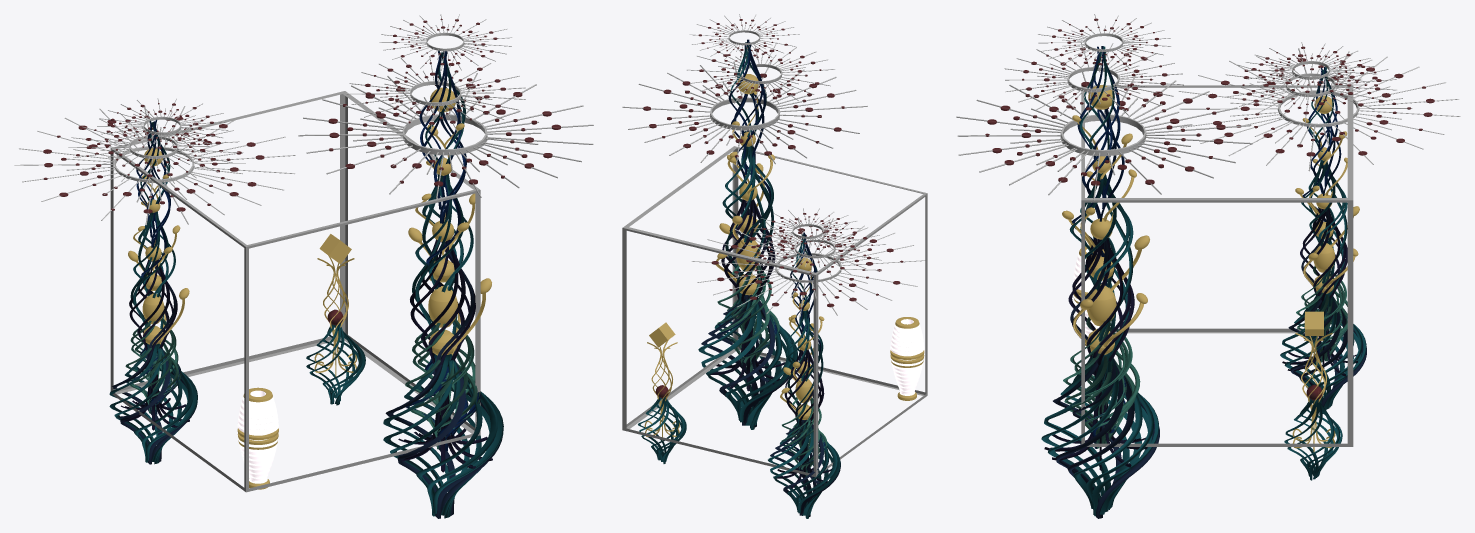
Rendered from Environment.fbx.
3 renders of one model, left to right at view 1: azimuth 30°, elevation 25°; view 2: azimuth 150°, elevation 25°; view 3: azimuth 270°, elevation 25°, orthographic. The views are drawn at different scales.
Visible parts, largest first — view 1: SpaceBox:VirtualEnvironment_0002:pCube1, Clock:Clock, Treev1_0001:AguamarinaOscura, Clock2:Clock, Treev1_0001:DarkBlue2, Treev1_0002:AguamarinaOscura, Podium:Vase32:Vase_32, Treev1_0001:DarkBlue, Clock:Clock2, Treev1_0001:Blue, Treev1_0001:LowerLightGreen, Treev1_0001:SecondDarkGreen (+12 smaller); view 2: SpaceBox:VirtualEnvironment_0002:pCube1, Clock:Clock, Treev1_0001:AguamarinaOscura, Clock2:Clock, Treev1_0002:AguamarinaOscura, Podium:Vase32:Vase_32, Treev1_0001:DarkBlue2, Treev1_0001:SecondDarkGreen, Treev1_0001:LowerLightGreen, Clock:Clock2, Treev1_0001:DarkBlue, Treev1_0001:Blue (+13 smaller); view 3: SpaceBox:VirtualEnvironment_0002:pCube1, Clock:Clock, Treev1_0001:AguamarinaOscura, Clock2:Clock, Treev1_0001:DarkBlue2, Treev1_0001:DarkBlue, Treev1_0001:LowerLightGreen, Clock:Clock2, Treev1_0002:AguamarinaOscura, Treev1_0001:SecondDarkGreen, Clock2:Clock2, Treev1_0001:Blue (+13 smaller).
Part boxes in pixels (bbox=[...]): SpaceBox:VirtualEnvironment_0002:pCube1: bbox=[110, 91, 480, 492]; Clock:Clock: bbox=[298, 72, 593, 198]; Treev1_0001:AguamarinaOscura: bbox=[383, 51, 503, 518]; Clock2:Clock: bbox=[14, 106, 295, 225]; Treev1_0001:DarkBlue2: bbox=[398, 239, 492, 472]; Treev1_0002:AguamarinaOscura: bbox=[109, 120, 197, 464]; Podium:Vase32:Vase_32: bbox=[237, 387, 278, 489]; Treev1_0001:DarkBlue: bbox=[385, 242, 502, 518]; Clock:Clock2: bbox=[346, 56, 525, 132]; Treev1_0001:Blue: bbox=[406, 51, 480, 451]; Treev1_0001:LowerLightGreen: bbox=[405, 319, 480, 449]; Treev1_0001:SecondDarkGreen: bbox=[412, 174, 473, 334]; SpaceBox:VirtualEnvironment_0002:pCube1: bbox=[622, 146, 927, 477]; Clock:Clock: bbox=[622, 61, 867, 165]; Treev1_0001:AguamarinaOscura: bbox=[698, 42, 797, 429]; Clock2:Clock: bbox=[691, 218, 925, 316]; Treev1_0002:AguamarinaOscura: bbox=[768, 234, 840, 518]; Podium:Vase32:Vase_32: bbox=[890, 317, 924, 400]; Treev1_0001:DarkBlue2: bbox=[710, 199, 785, 391]; Treev1_0001:SecondDarkGreen: bbox=[722, 131, 773, 298]; Treev1_0001:LowerLightGreen: bbox=[717, 264, 779, 372]; Clock:Clock2: bbox=[687, 42, 835, 105]; Treev1_0001:DarkBlue: bbox=[701, 211, 797, 427]; Treev1_0001:Blue: bbox=[717, 39, 776, 369]; SpaceBox:VirtualEnvironment_0002:pCube1: bbox=[1081, 85, 1353, 446]; Clock:Clock: bbox=[956, 72, 1252, 201]; Treev1_0001:AguamarinaOscura: bbox=[1041, 46, 1158, 516]; Clock2:Clock: bbox=[1178, 48, 1460, 171]; Treev1_0001:DarkBlue2: bbox=[1044, 237, 1147, 470]; Treev1_0001:DarkBlue: bbox=[1053, 239, 1159, 518]; Treev1_0001:LowerLightGreen: bbox=[1063, 317, 1140, 448]; Clock:Clock2: bbox=[1004, 41, 1183, 119]; Treev1_0002:AguamarinaOscura: bbox=[1280, 67, 1366, 410]; Treev1_0001:SecondDarkGreen: bbox=[1069, 159, 1133, 392]; Clock2:Clock2: bbox=[1225, 48, 1396, 123]; Treev1_0001:Blue: bbox=[1071, 46, 1125, 448].
Bounding box in the file's own units: 5.63 × 5.78 × 5.56.
